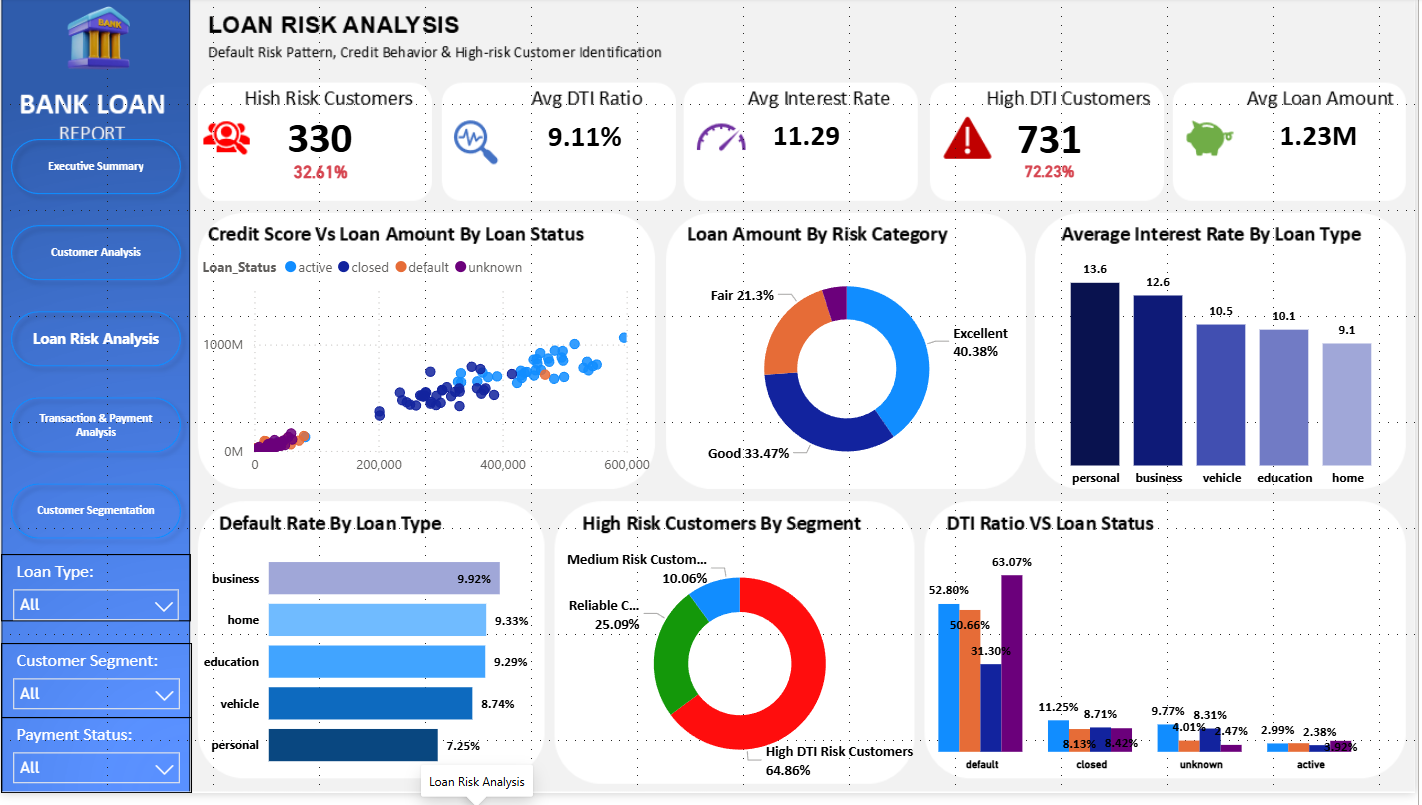

Layout of this report page (visuals, bound fields, positions):
{"tool":"powerbi","page":{"name":"Loan Risk Analysis","canvas":[1280,720],"ordinal":2},"visuals":[{"type":"image","box":[9.3,0,159,72.3],"z":0},{"type":"card","fields":{"Values":["Sum(Final Datasets.High_Risk)"]},"box":[184.7,100.2,207.7,47],"z":1000},{"type":"donutChart","title":"Loan Amount by Risk Category","fields":{"Category":["Final Datasets.Risk_Category"],"Y":["Sum(Final Datasets.Loan_Amount)"]},"box":[603.3,230.6,325.6,209.9],"z":2000},{"type":"clusteredColumnChart","fields":{"Category":["Final Datasets.Loan_Type"],"Y":["Avg(Final Datasets.Interest_Rate)"]},"box":[941.2,224,329.4,228.7],"z":3000},{"type":"barChart","title":"DEFAULT BY LOAN TYPE","fields":{"Category":["Final Datasets.Loan_Type"],"Y":["Final Datasets.Default Rate"]},"box":[177.9,482.8,312.5,229.6],"z":4000},{"type":"donutChart","title":"HIGH RISK CUSTOMERS BY SEGMENT","fields":{"Category":["Final Datasets.Customer_Segment"],"Y":["Count(Final Datasets.Customer_ID)"]},"box":[506.4,492.2,325.6,220.2],"z":5000},{"type":"pageNavigator","box":[0,118.6,173,384.9],"z":6000},{"type":"slicer","fields":{"Values":["Final Datasets.Loan_Type"]},"box":[0,503.7,172.4,60.9],"z":7000},{"type":"slicer","fields":{"Values":["Final Datasets.Customer_Segment"]},"box":[0,584.2,173,67.9],"z":8000},{"type":"slicer","fields":{"Values":["Final Datasets.Customer_Segment"]},"box":[0,651.2,173,68.8],"z":9000},{"type":"card","fields":{"Values":["Avg(Final Datasets.Debt_to_Income_Ratio)"]},"box":[464.8,100,128.3,49.5],"z":10000},{"type":"card","fields":{"Values":["Avg(Final Datasets.Interest_Rate)"]},"box":[654.8,99.6,149.4,48],"z":11000},{"type":"card","fields":{"Values":["Avg(Final Datasets.Loan_Amount)"]},"box":[1130.8,98,124.3,51.5],"z":12000},{"type":"card","fields":{"Values":["Final Datasets.High DTI Customers"]},"box":[840,101.2,218.1,48],"z":13000},{"type":"scatterChart","fields":{"X":["Sum(Final Datasets.Credit_Score)"],"Series":["Final Datasets.Loan_Status"],"Category":["Final Datasets.Customer_ID"],"Y":["Sum(Final Datasets.Loan_Amount)"]},"box":[177.9,224,415.1,216.5],"z":14000},{"type":"clusteredColumnChart","fields":{"Category":["Final Datasets.Loan_Status"],"Y":["Avg(Final Datasets.Debt_to_Income_Ratio)"],"Series":["Final Datasets.Risk_Category"]},"box":[804.4,487.1,466.7,220.4],"z":15000},{"type":"card","fields":{"Values":["Final Datasets.High Risk Customer %"]},"box":[188.9,138.8,200.3,39.7],"z":16000},{"type":"card","fields":{"Values":["Final Datasets.High DTI Cust %"]},"box":[840,138.8,218.1,39.7],"z":17000}]}

Visuals, with their boxes on the page's 1280x720 design canvas (x1, y1, x2, y2). These are canvas units, not pixel positions in the 1422x805 screenshot, which may show the page scaled, cropped or inside an application window:
image: l=9, t=0, r=168, b=72
card - Sum(Final Datasets.High_Risk): l=185, t=100, r=392, b=147
"Loan Amount by Risk Category" donutChart: l=603, t=231, r=929, b=440
clusteredColumnChart - Final Datasets.Loan_Type x Avg(Final Datasets.Interest_Rate): l=941, t=224, r=1271, b=453
"DEFAULT BY LOAN TYPE" barChart: l=178, t=483, r=490, b=712
"HIGH RISK CUSTOMERS BY SEGMENT" donutChart: l=506, t=492, r=832, b=712
pageNavigator: l=0, t=119, r=173, b=504
slicer - Final Datasets.Loan_Type: l=0, t=504, r=172, b=565
slicer - Final Datasets.Customer_Segment: l=0, t=584, r=173, b=652
slicer - Final Datasets.Customer_Segment: l=0, t=651, r=173, b=720
card - Avg(Final Datasets.Debt_to_Income_Ratio): l=465, t=100, r=593, b=150
card - Avg(Final Datasets.Interest_Rate): l=655, t=100, r=804, b=148
card - Avg(Final Datasets.Loan_Amount): l=1131, t=98, r=1255, b=150
card - Final Datasets.High DTI Customers: l=840, t=101, r=1058, b=149
scatterChart - Sum(Final Datasets.Credit_Score) x Final Datasets.Loan_Status: l=178, t=224, r=593, b=440
clusteredColumnChart - Final Datasets.Loan_Status x Avg(Final Datasets.Debt_to_Income_Ratio): l=804, t=487, r=1271, b=708
card - Final Datasets.High Risk Customer %: l=189, t=139, r=389, b=178
card - Final Datasets.High DTI Cust %: l=840, t=139, r=1058, b=178
